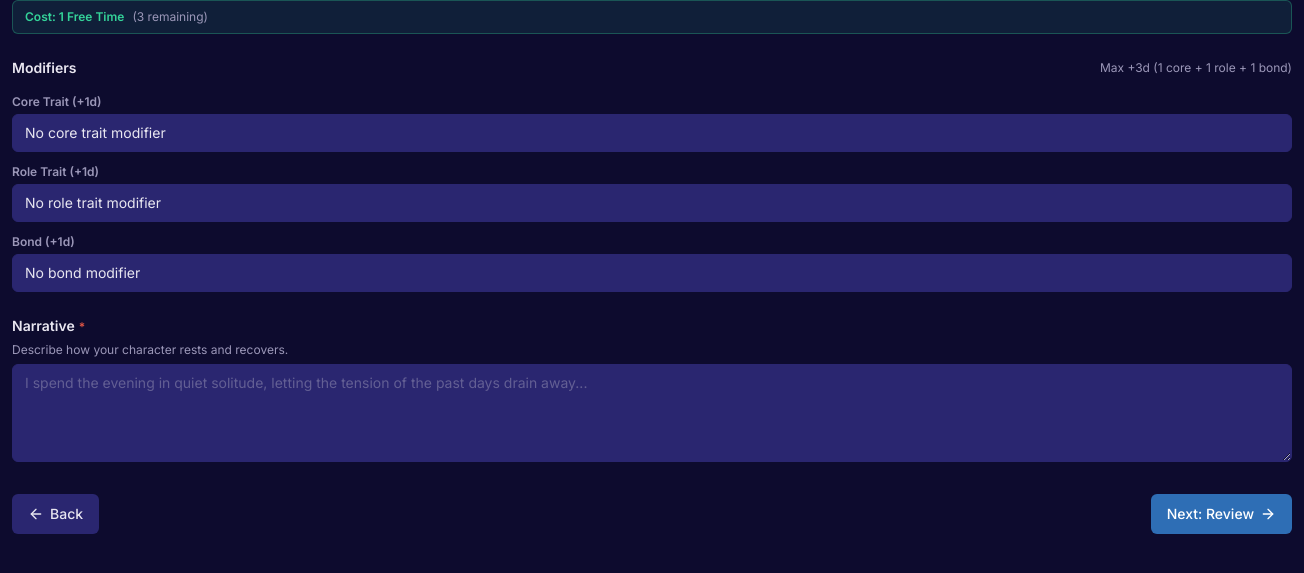
it: RestForm › validation › clears error after filling narrative
// Submit with empty narrative
Click the button "Next: Review": [1221, 514] box [1151,494,1292,534]
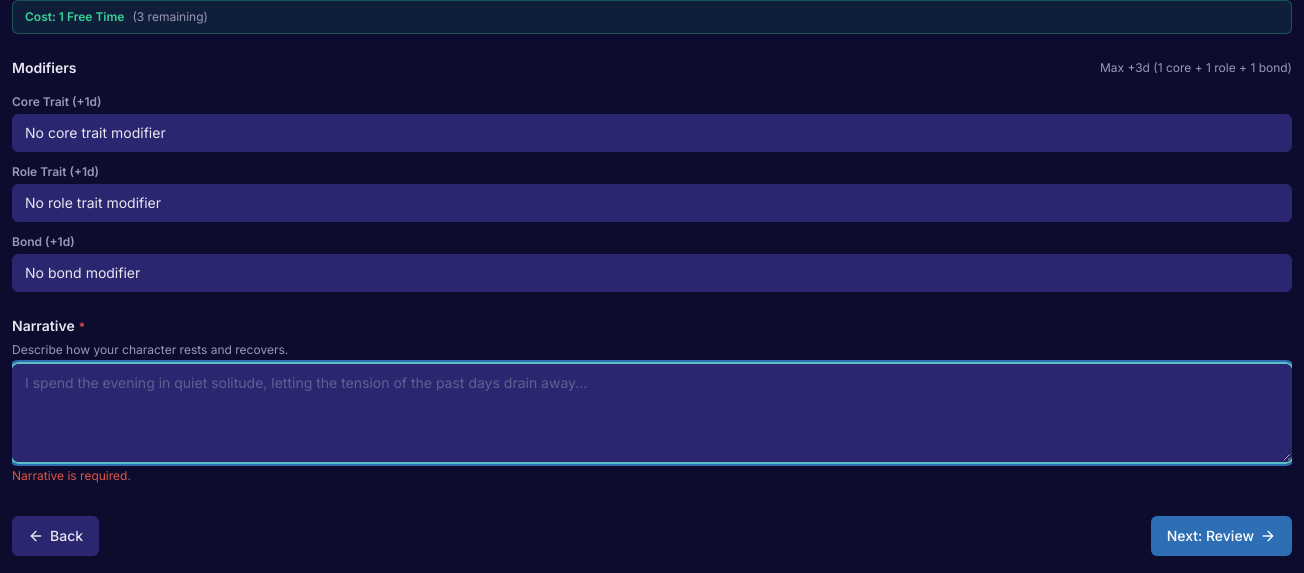
Expected: the text "Narrative is required." is shown, [12,468,131,483]
// Fill in narrative
Replace the text in the text box labelled "Narrative*" with "I spent the evening resting.": [652, 413] box [12,364,1292,462]
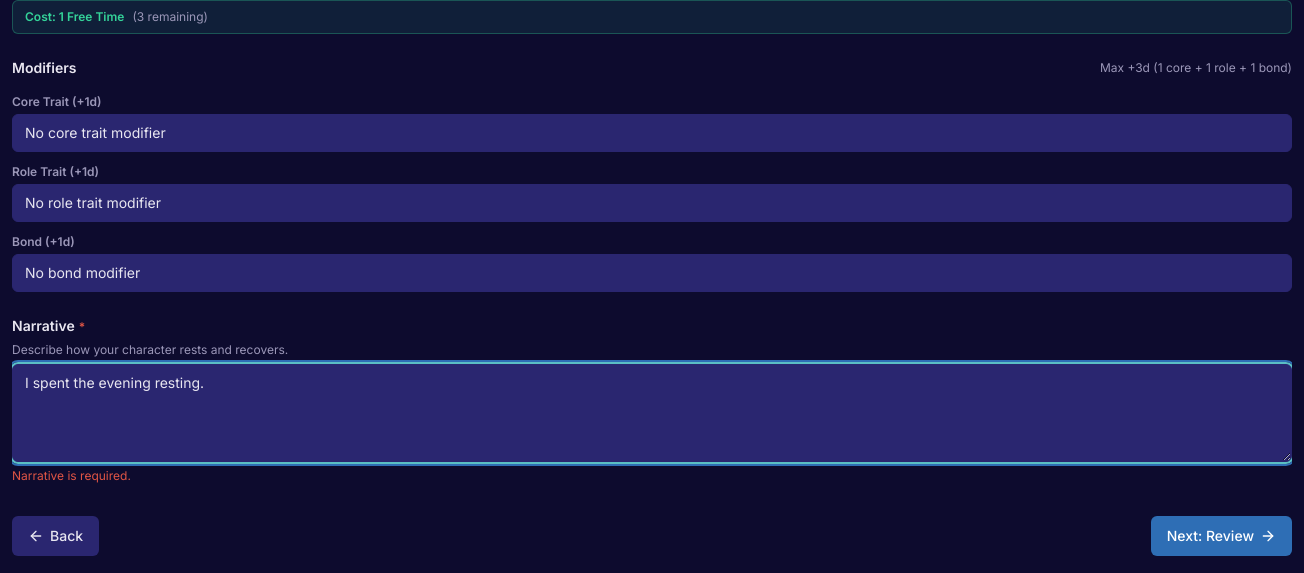
Click the button "Next: Review": [1221, 536] box [1151,516,1292,556]
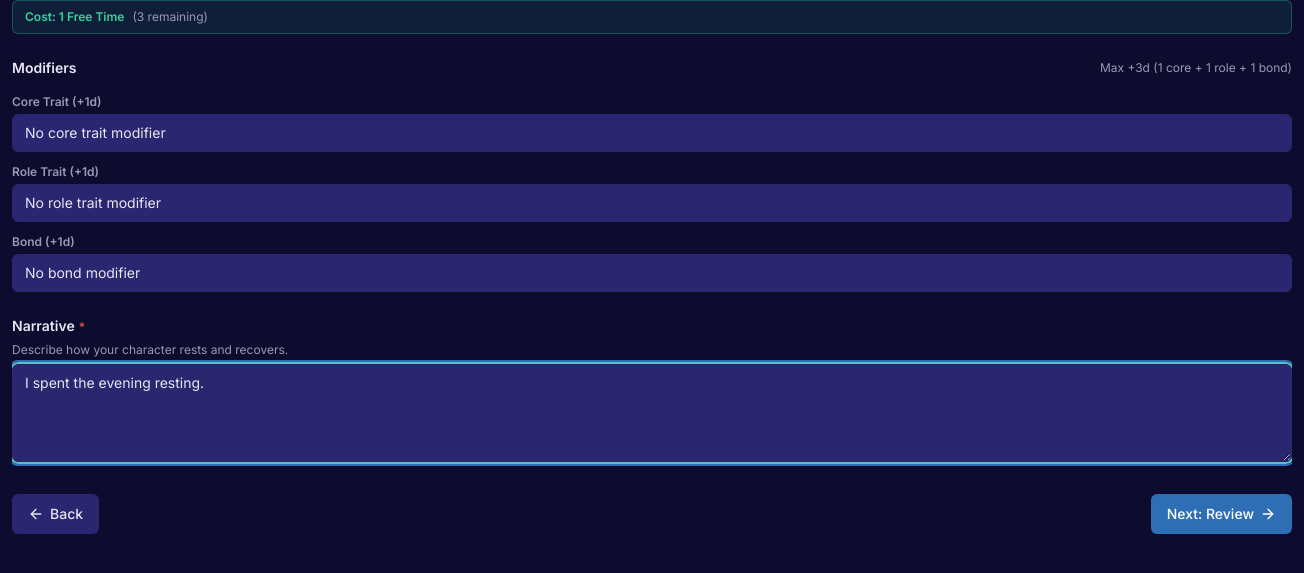
Expected: the text "Narrative is required." is gone
